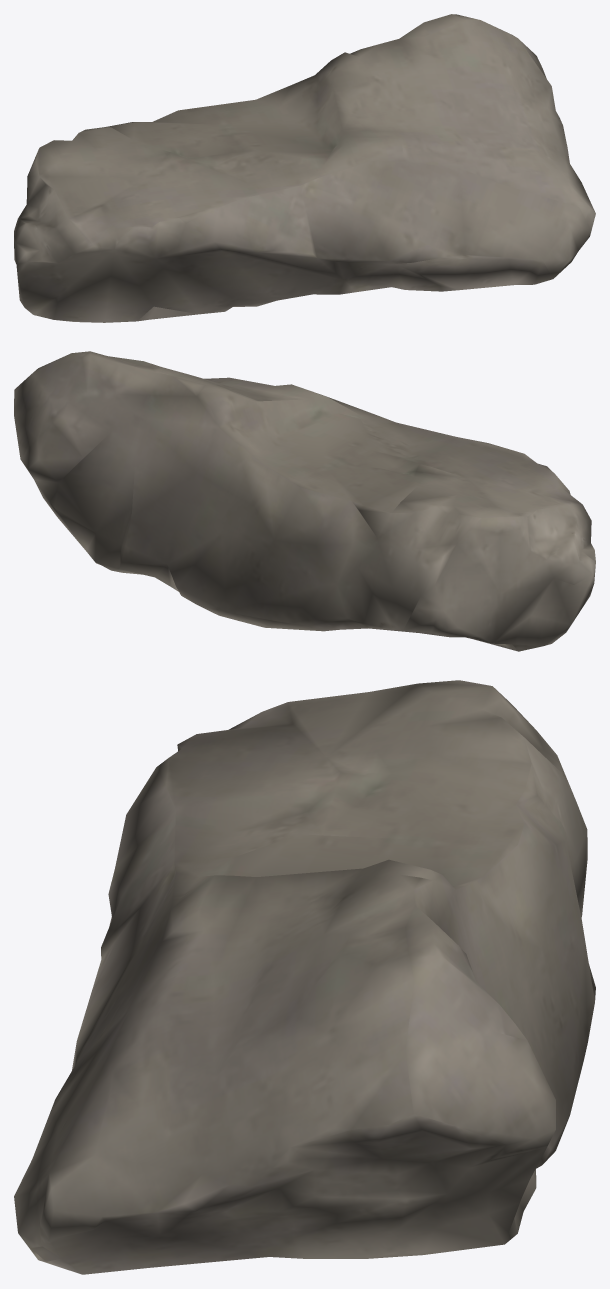
Rendered from moon_rock_01.glb.
3 views of the same model, one above another, from view 1: azimuth 30°, elevation 25°; view 2: azimuth 150°, elevation 25°; view 3: azimuth 270°, elevation 25° (orthographic). The views are drawn at different scales.
Parts seen in each view (by area): view 1: moon_rock_01_LOD0; view 2: moon_rock_01_LOD0; view 3: moon_rock_01_LOD0.
Part boxes in pixels (x1,y1,x2,y2): moon_rock_01_LOD0: [14, 14, 595, 322]; moon_rock_01_LOD0: [14, 351, 595, 651]; moon_rock_01_LOD0: [14, 680, 595, 1274].
Size of what is drawn, in the model's own units: 0.2121 by 0.075 by 0.1107.
1 material, 1 textured.
